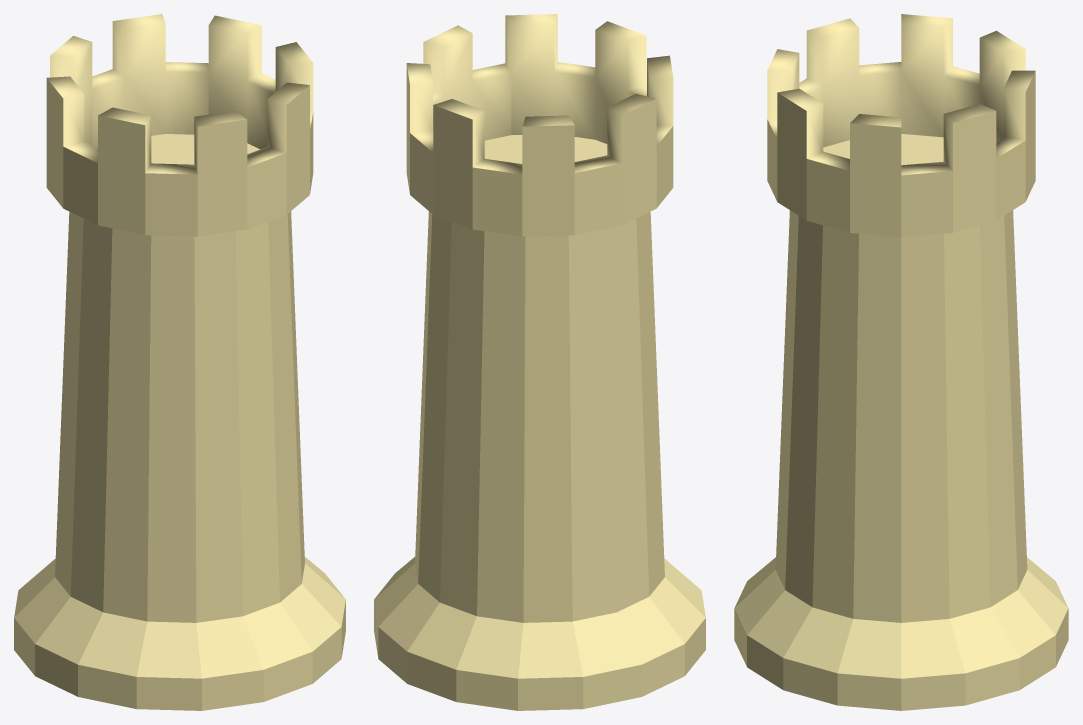
File: white.obj
3 renders of one model, left to right at view 1: azimuth 30°, elevation 25°; view 2: azimuth 150°, elevation 25°; view 3: azimuth 270°, elevation 25°, orthographic.
Visible parts, largest first — view 1: Cylinder; view 2: Cylinder; view 3: Cylinder.
Boxes of the visible parts, bbox=[...] form: Cylinder: bbox=[14, 14, 345, 710]; Cylinder: bbox=[374, 14, 705, 710]; Cylinder: bbox=[734, 14, 1068, 710].
Bounding box in the file's own units: 1.45 × 2.72 × 1.45.
